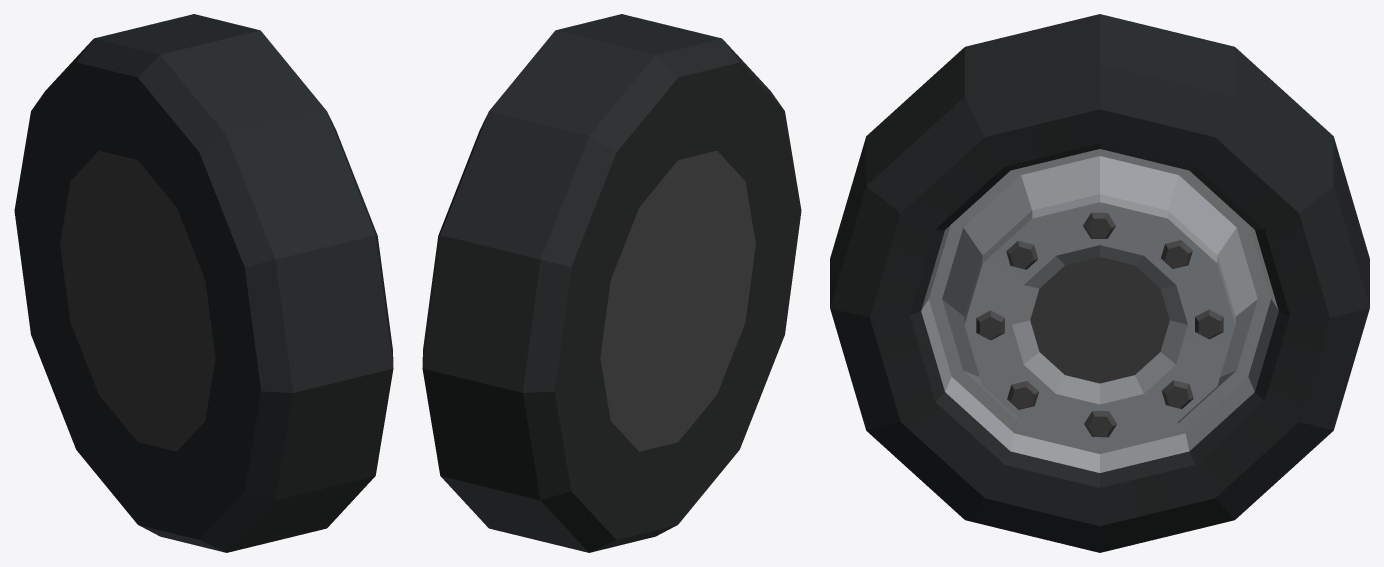
The model's file is SM_Veh_Truck_Wheel_fl.obj.
3 views of the same model, side by side, from view 1: azimuth 30°, elevation 25°; view 2: azimuth 150°, elevation 25°; view 3: azimuth 270°, elevation 25° (orthographic).
Parts seen in each view (by area): view 1: SM_Veh_Truck_Wheel_fl_0; view 2: SM_Veh_Truck_Wheel_fl_0; view 3: SM_Veh_Truck_Wheel_fl_0.
Boxes of the visible parts, x1=… form: SM_Veh_Truck_Wheel_fl_0: x1=14, y1=14, x2=393, y2=552; SM_Veh_Truck_Wheel_fl_0: x1=422, y1=14, x2=801, y2=552; SM_Veh_Truck_Wheel_fl_0: x1=830, y1=14, x2=1369, y2=552.
Bounding box in the file's own units: 0.3659 × 1.05 × 1.05.
Materials: 1 (1 with a texture image).
